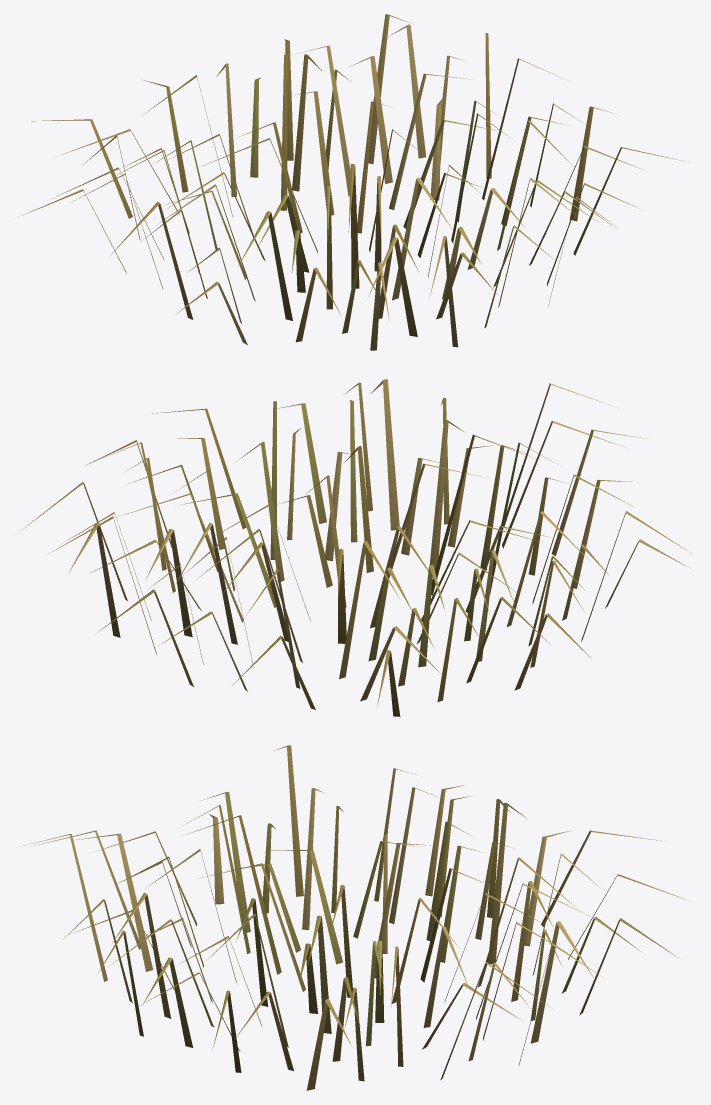
The model's file is grass-fine-lite.glb.
3 renders of one model, top to bottom at view 1: azimuth 30°, elevation 25°; view 2: azimuth 150°, elevation 25°; view 3: azimuth 270°, elevation 25°, orthographic. The views are drawn at different scales.
Parts seen in each view (by area): view 1: FineGrassPatch; view 2: FineGrassPatch; view 3: FineGrassPatch.
Part boxes in pixels (x1,y1,x2,y2): FineGrassPatch: (21,14,689,350); FineGrassPatch: (17,379,691,716); FineGrassPatch: (23,745,689,1090).
Size of the model in its own units: 1.55 by 0.3808 by 1.6.
